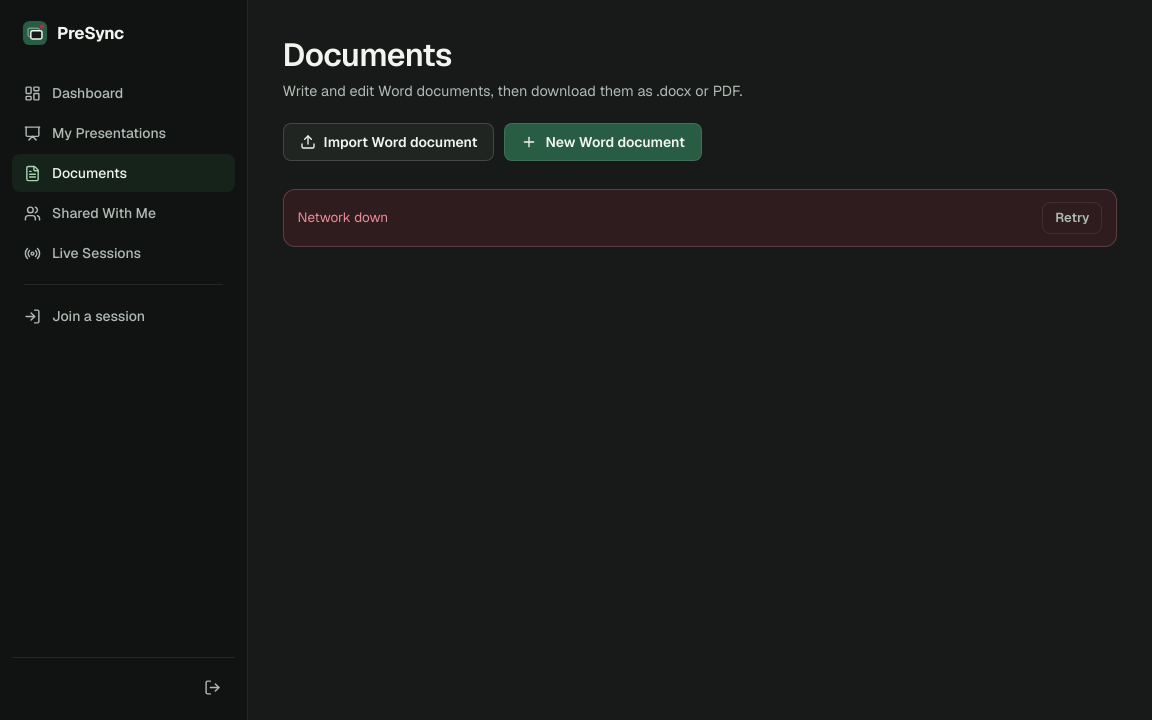
Test case: DocumentsPage › offers a retry when loading fails
The image size is (1152, 720).
Expected: the text "Network down" is shown, [298, 208, 388, 226]
Click the button "Retry". click: coordinates (1072, 218)
box: [1042, 202, 1102, 234]
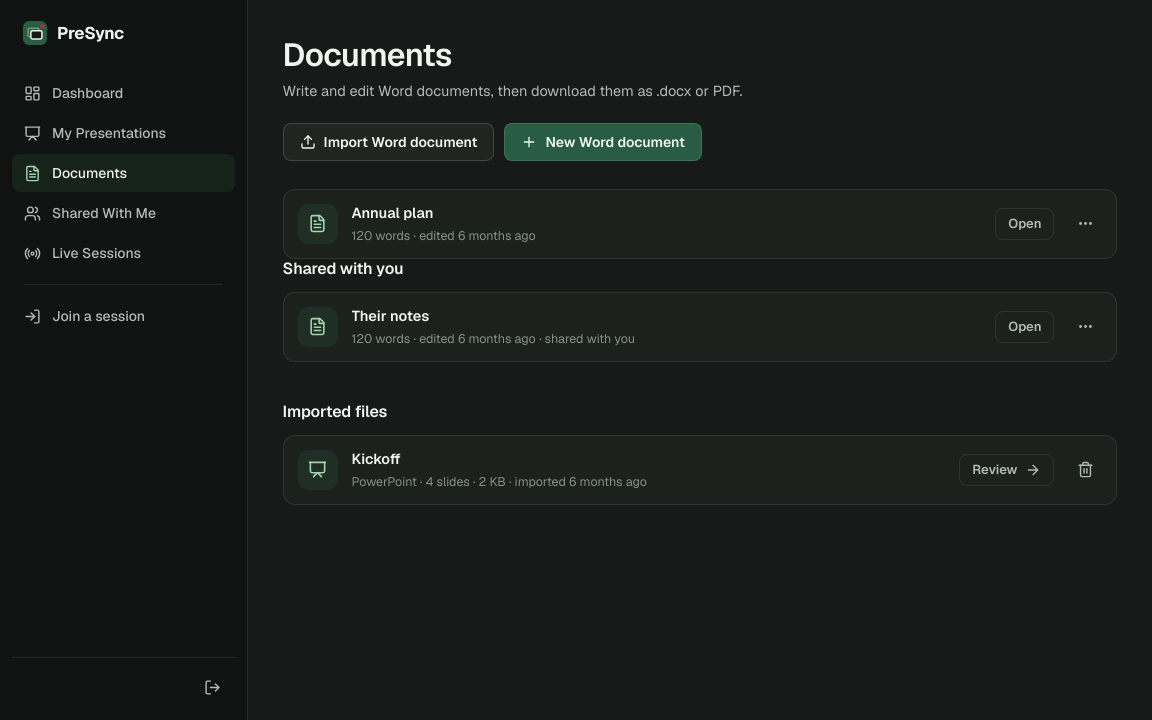
Result: the list named "Word documents" is shown at [282, 189, 1117, 259]
